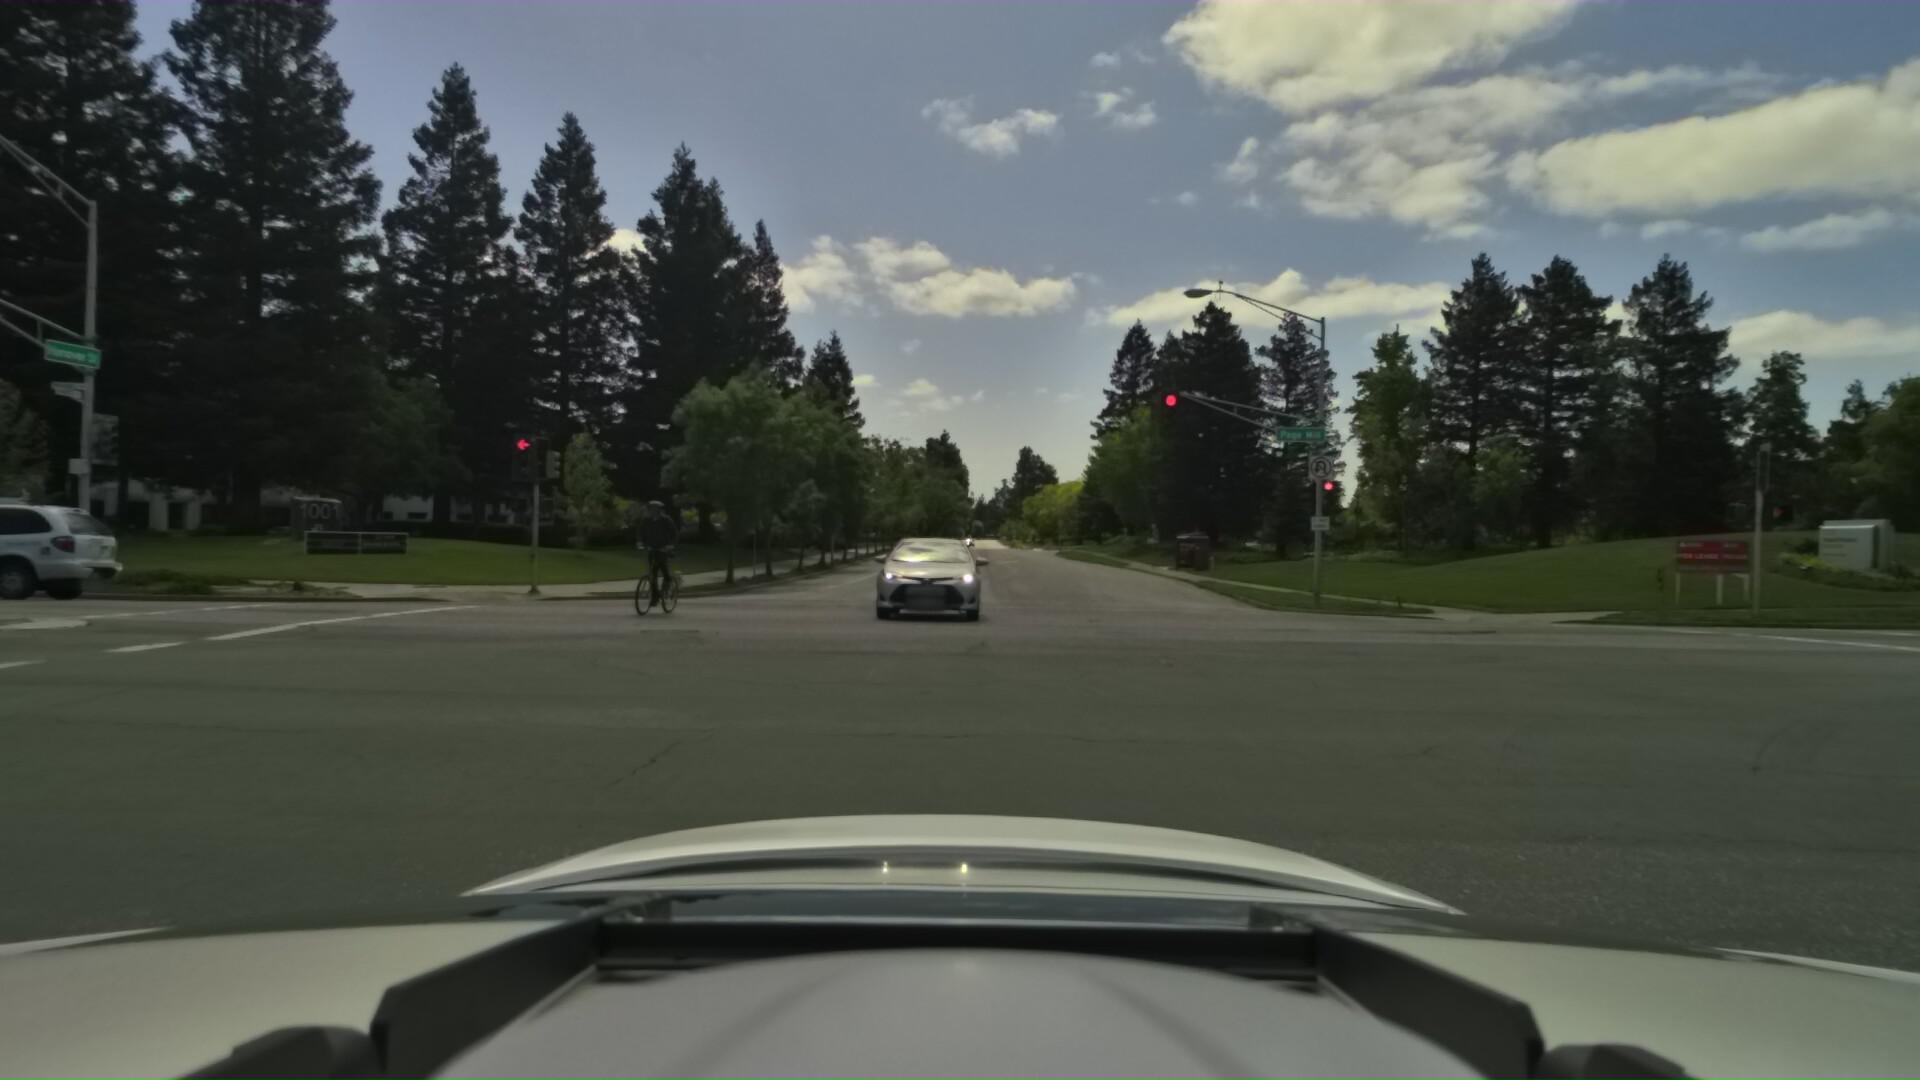bicycle: (612, 489, 702, 616)
car: (0, 491, 135, 600), (860, 516, 977, 620)
